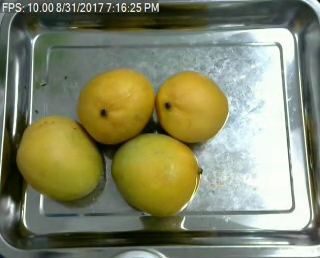Mango: (110, 133, 200, 214), (19, 115, 106, 198), (77, 69, 155, 144), (155, 69, 230, 143)
